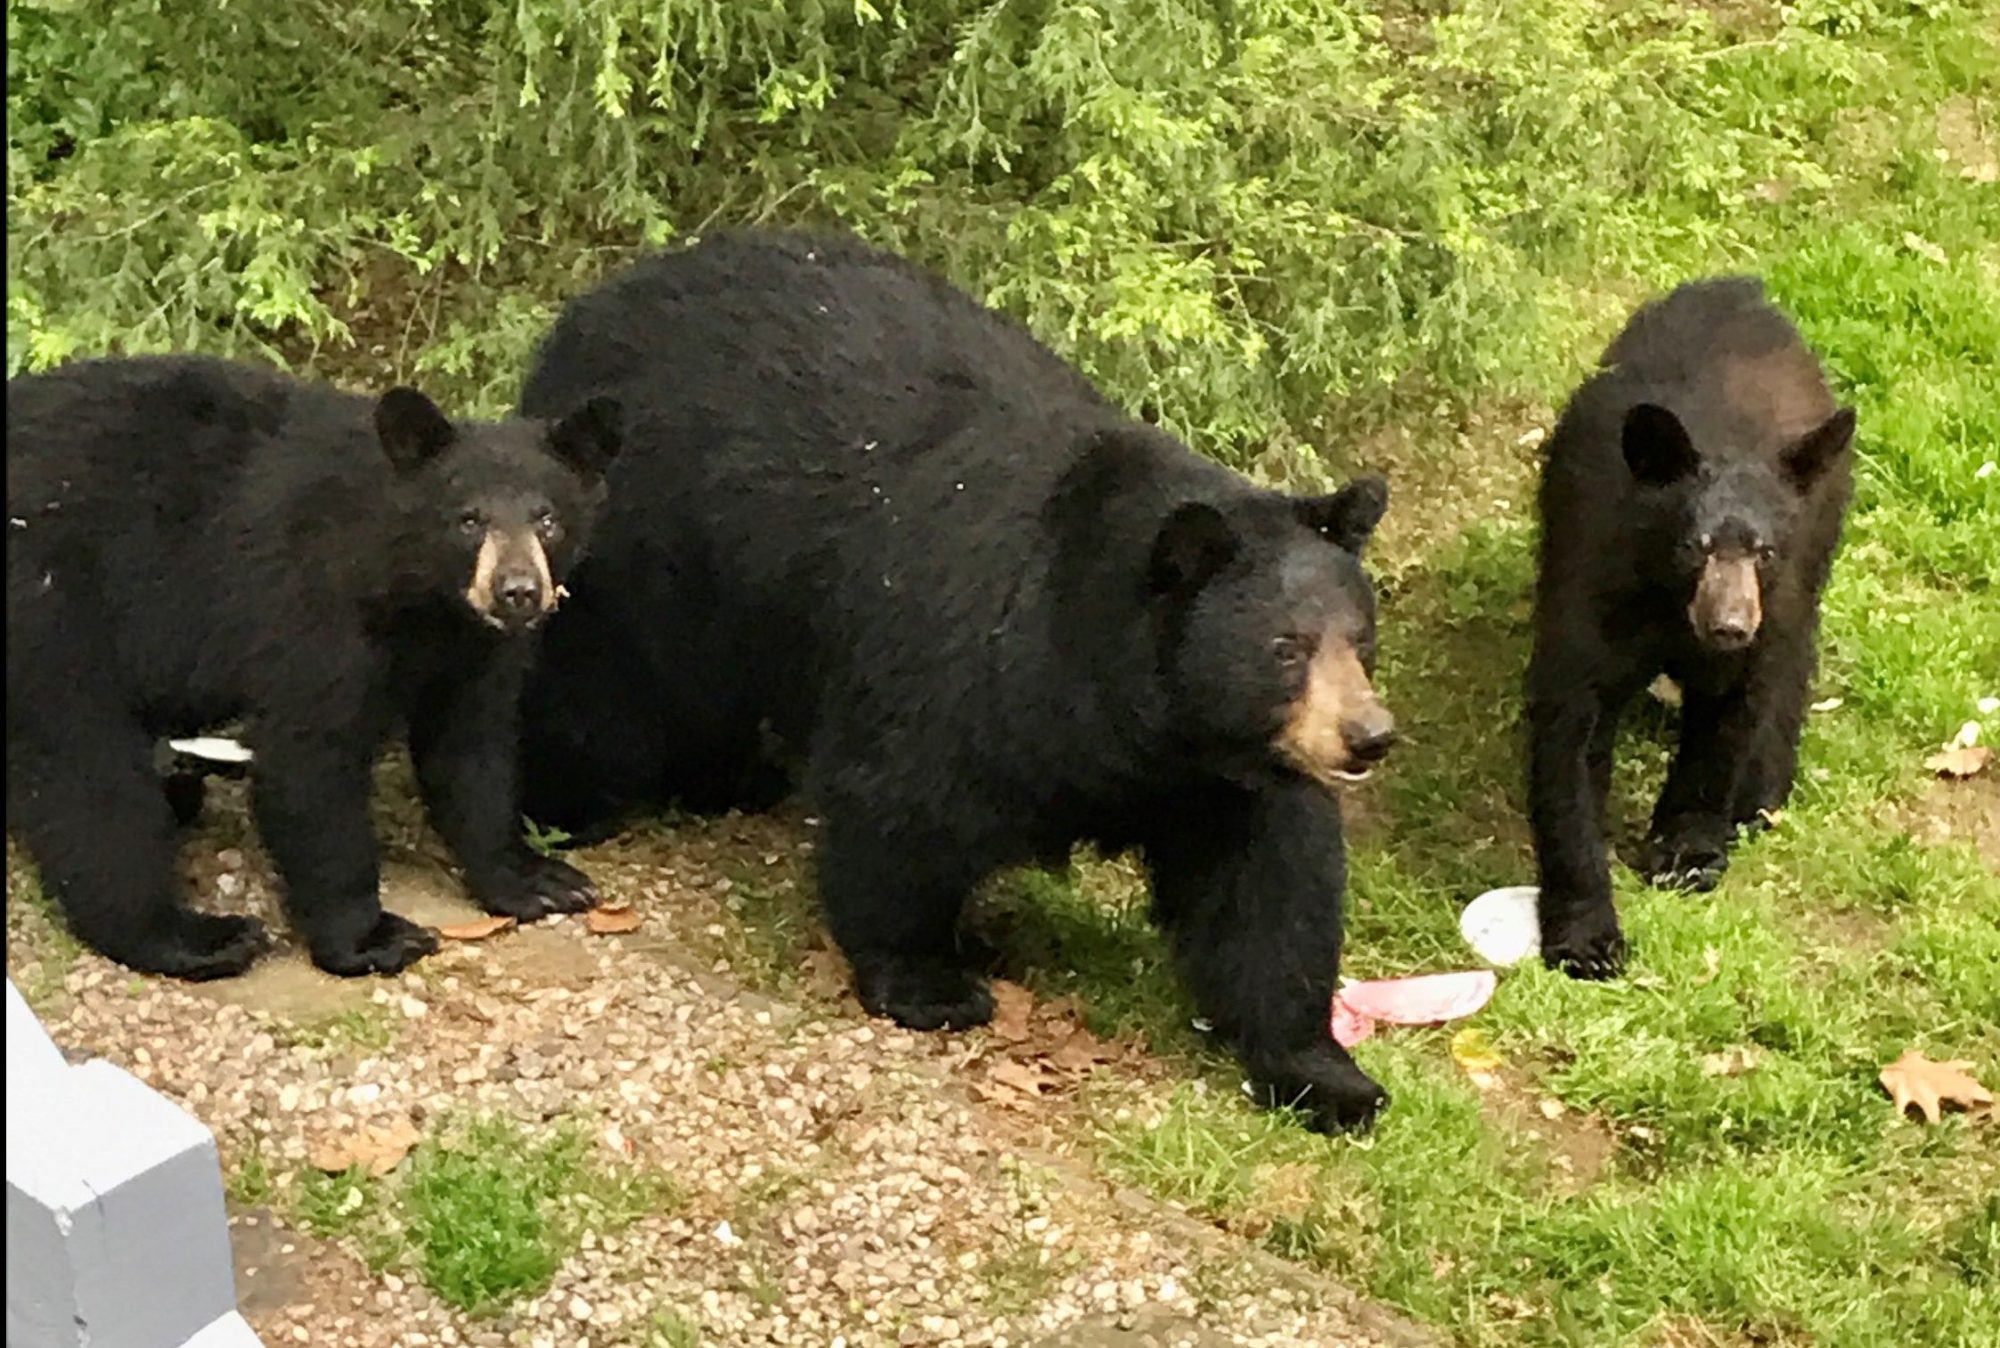bear: (484, 223, 1403, 1133), (2, 354, 632, 997), (1525, 289, 1841, 994)
